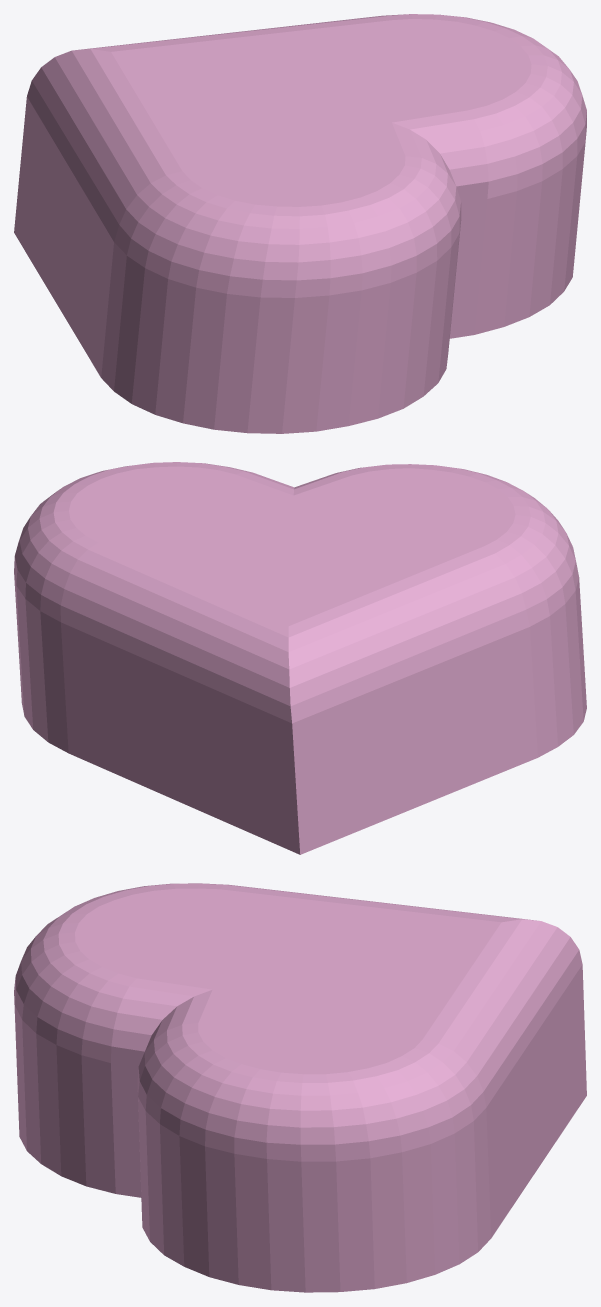
Rendered from cora.obj.
The picture shows the model from 3 angles, top to bottom: view 1: azimuth 30°, elevation 25°; view 2: azimuth 150°, elevation 25°; view 3: azimuth 270°, elevation 25°; orthographic projection. The views are drawn at different scales.
Parts seen in each view (by area): view 1: Torus_008; view 2: Torus_008; view 3: Torus_008.
Boxes of the visible parts, bbox=[...] form: Torus_008: bbox=[14, 14, 586, 433]; Torus_008: bbox=[14, 462, 586, 854]; Torus_008: bbox=[14, 883, 586, 1292].
Bounding box in the file's own units: 0.1074 × 0.0411 × 0.1053.
Materials: 1 (1 with a texture image).
